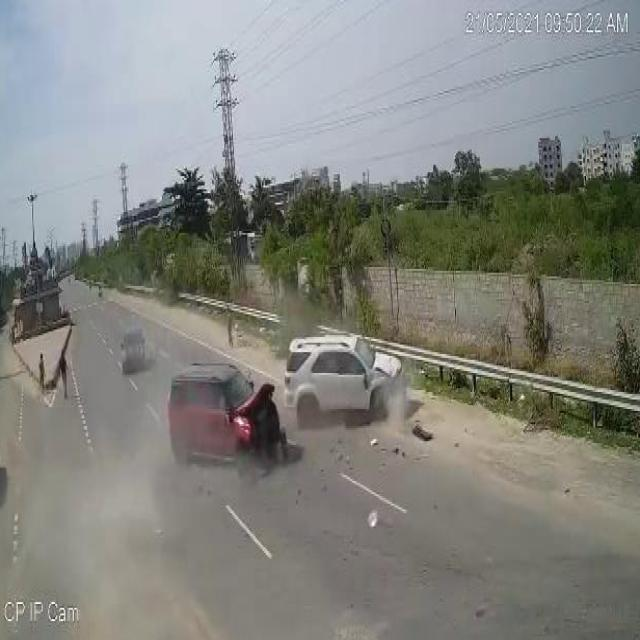accident: (154, 308, 438, 492)
